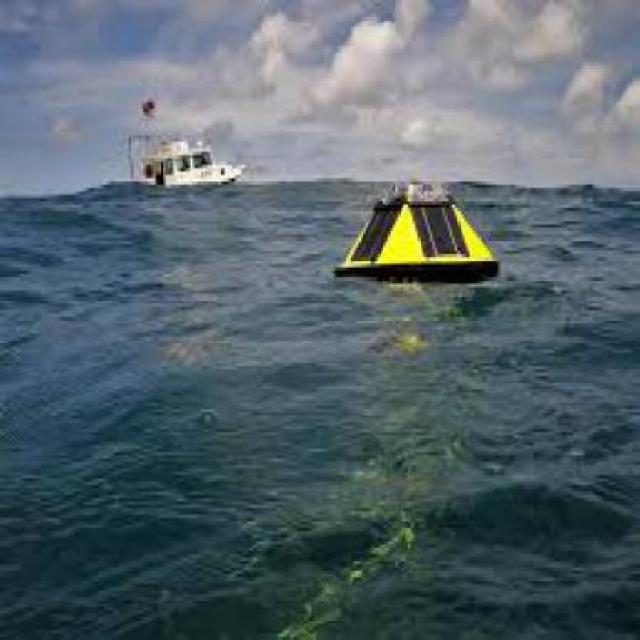buoy: (332, 179, 507, 295)
